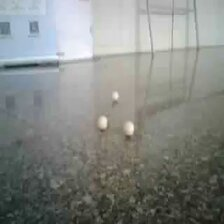tennis: (189, 115, 214, 145), (34, 68, 49, 89), (108, 80, 123, 100), (120, 60, 132, 75)
